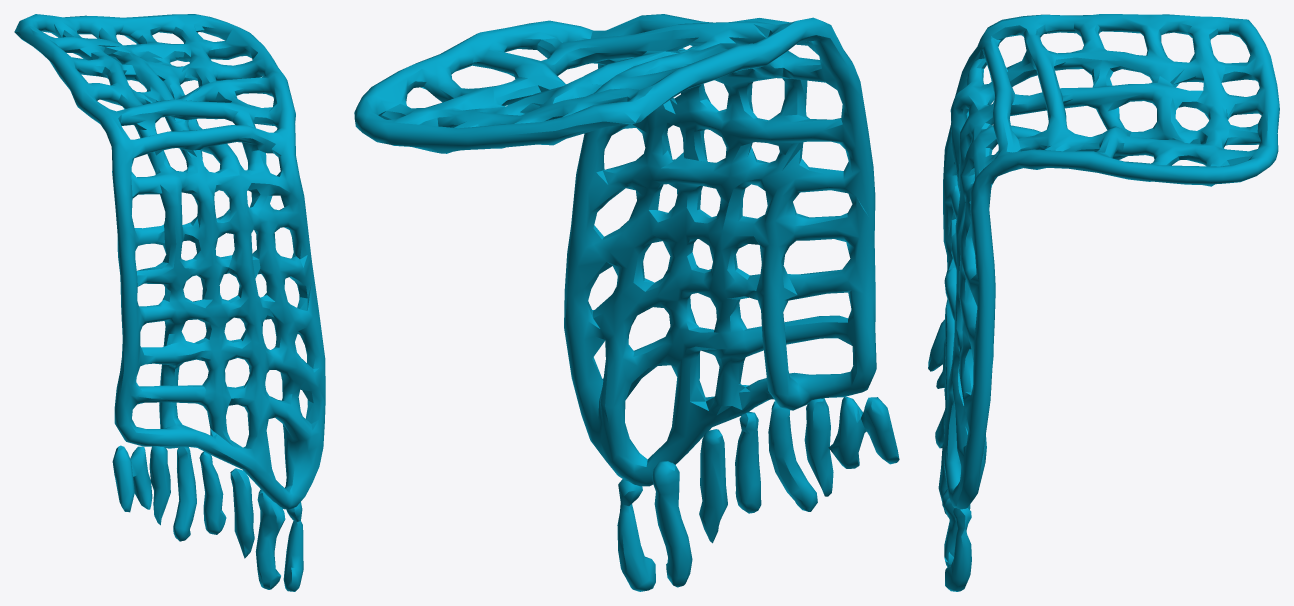
Rendered from limeElement5.fbx.
3 renders of one model, left to right at view 1: azimuth 30°, elevation 25°; view 2: azimuth 150°, elevation 25°; view 3: azimuth 270°, elevation 25°, orthographic. The views are drawn at different scales.
Parts seen in each view (by area): view 1: GEO_CLOTH; view 2: GEO_CLOTH; view 3: GEO_CLOTH.
Part boxes in pixels (left/top/right/bottom): GEO_CLOTH: left=14, top=14, right=325, bottom=591; GEO_CLOTH: left=354, top=14, right=899, bottom=591; GEO_CLOTH: left=928, top=14, right=1279, bottom=591.
Size of the model in its own units: 54.75 by 98.94 by 61.8.
